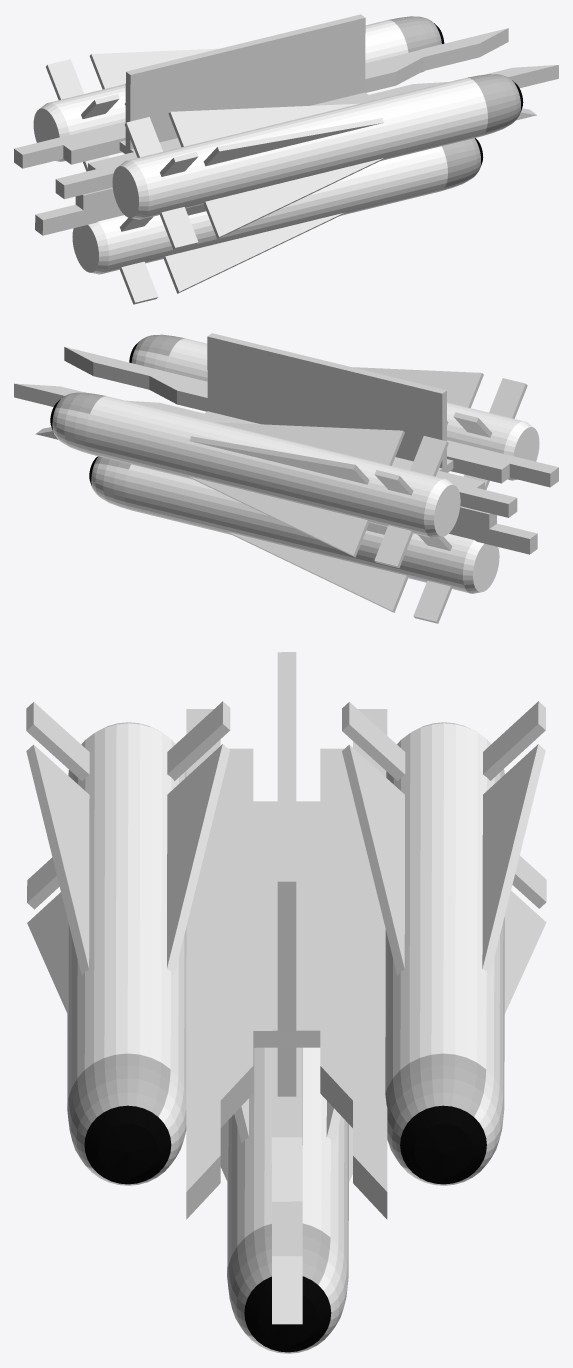
The model's file is a10cagm654.glb.
The picture shows the model from 3 angles, top to bottom: view 1: azimuth 30°, elevation 25°; view 2: azimuth 150°, elevation 25°; view 3: azimuth 270°, elevation 25°; orthographic projection. The views are drawn at different scales.
Parts seen in each view (by area): view 1: 立方体.027, 立方体.025, 立方体.029, 立方体.028; view 2: 立方体.028, 立方体.025, 立方体.029, 立方体.027; view 3: 立方体.025, 立方体.028, 立方体.027, 立方体.029.
Boxes of the visible parts, x1,y1,x2,y2 form: 立方体.027: [112, 74, 523, 249]; 立方体.025: [14, 14, 558, 235]; 立方体.029: [72, 138, 483, 304]; 立方体.028: [33, 16, 444, 171]; 立方体.028: [50, 392, 460, 567]; 立方体.025: [14, 333, 558, 554]; 立方体.029: [89, 456, 499, 623]; 立方体.027: [129, 334, 539, 489]; 立方体.025: [186, 652, 387, 1324]; 立方体.028: [342, 701, 546, 1185]; 立方体.027: [26, 701, 230, 1185]; 立方体.029: [220, 1047, 352, 1353].
Size of the model in its own units: 3.17 by 1.29 by 1.45.
Materials: 6 (1 with a texture image).
